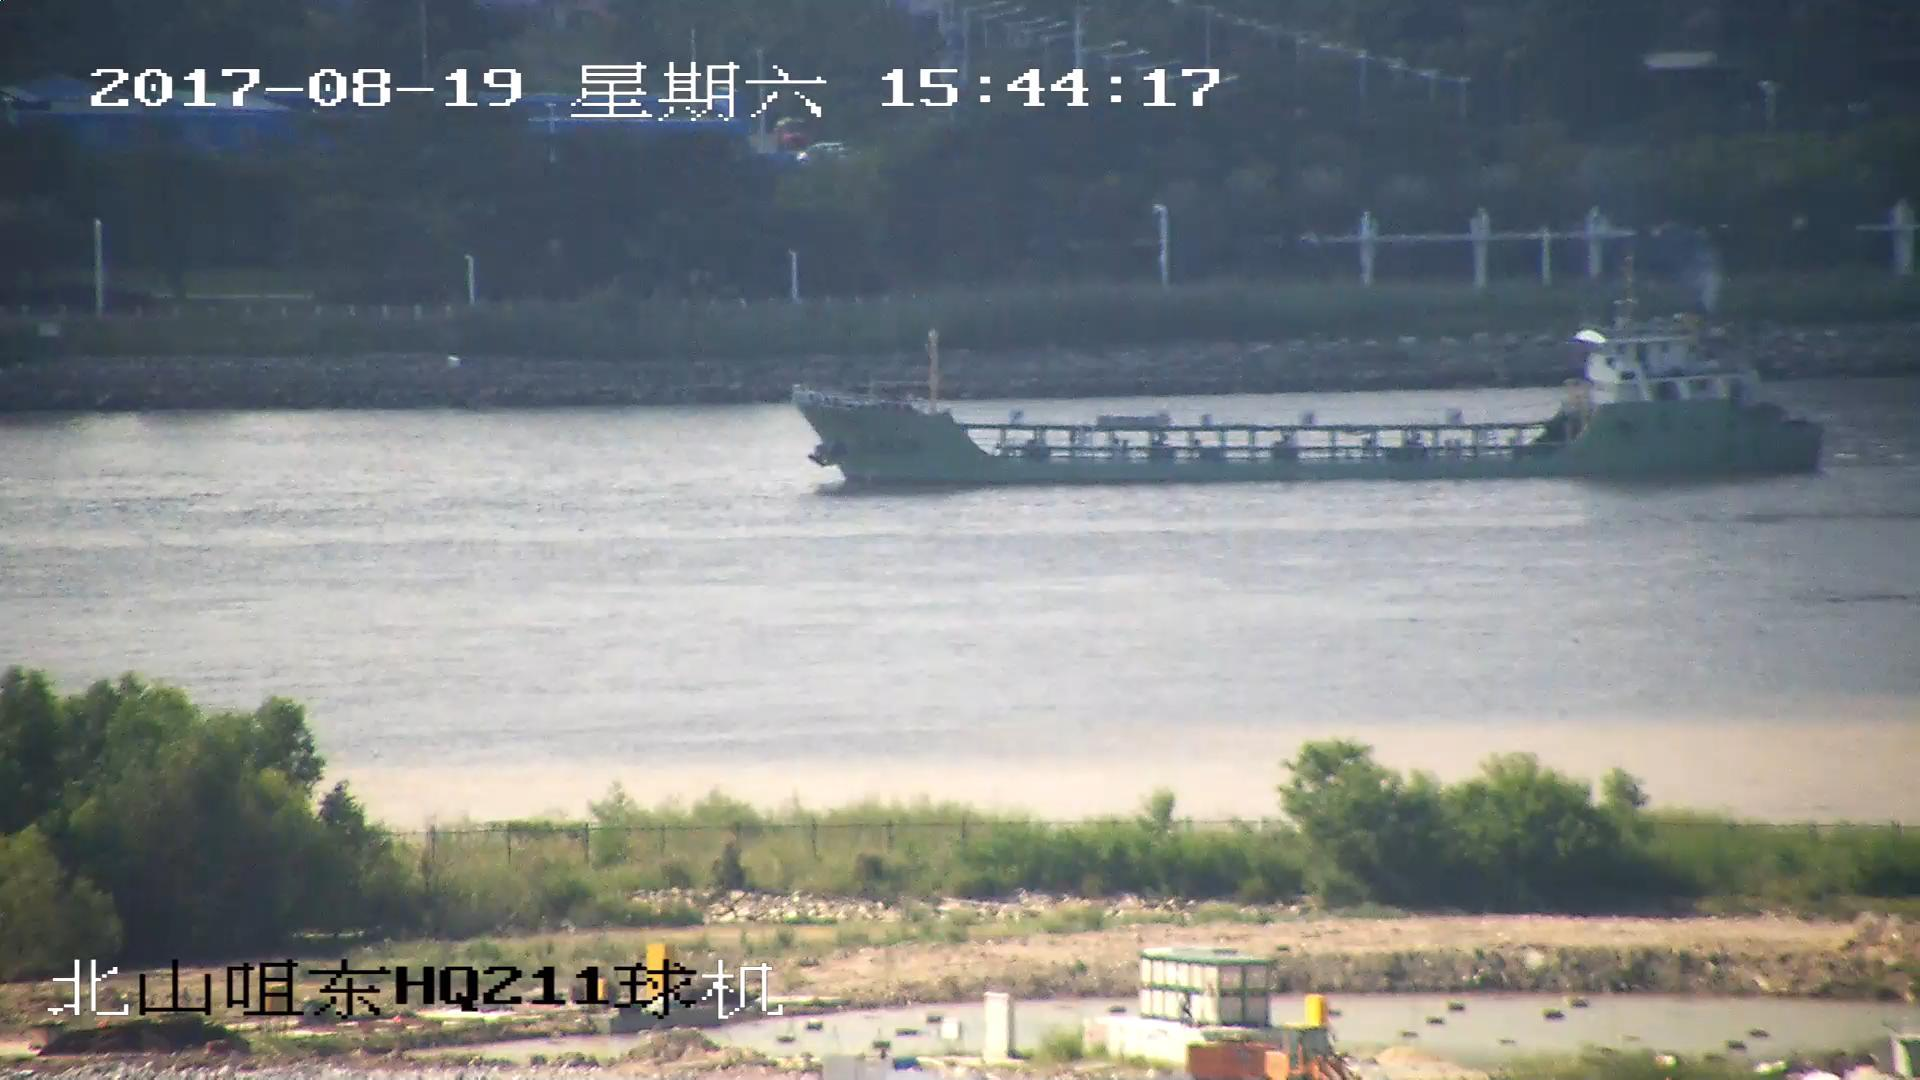Ship: (790, 284, 1822, 493)
